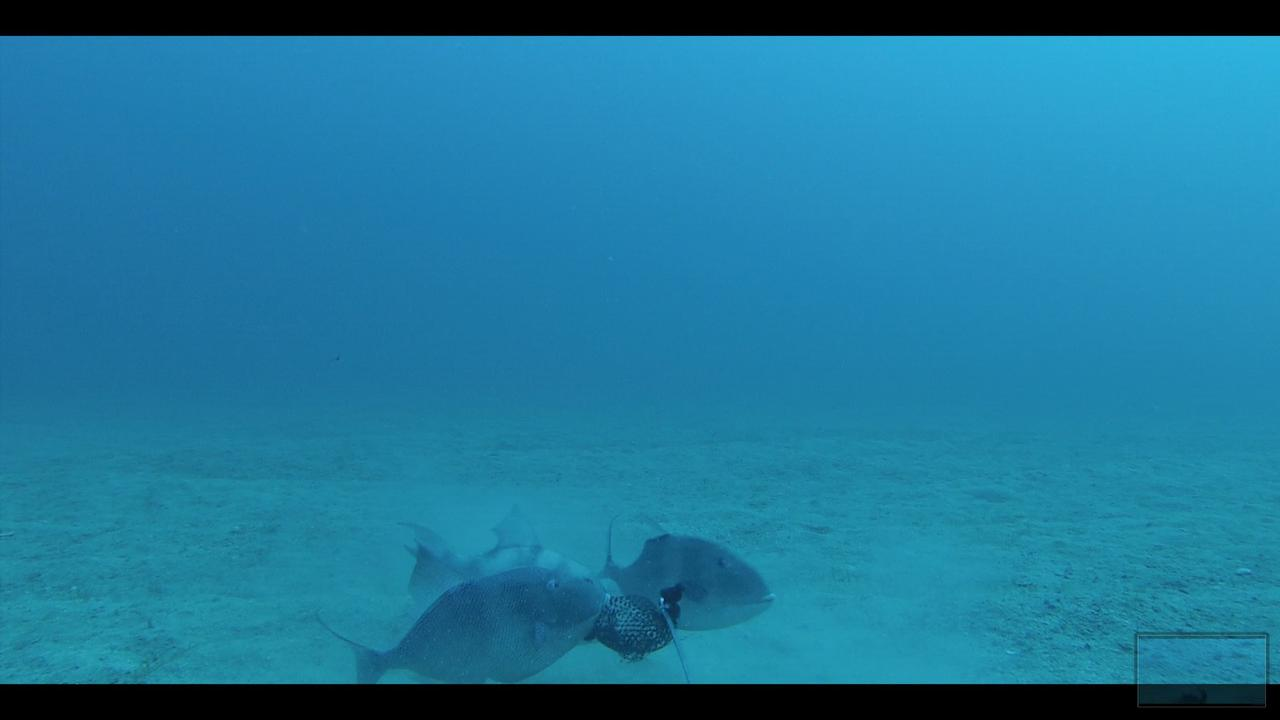balistes: (303, 541, 611, 682), (590, 507, 779, 631)
